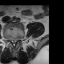CCS_normal: (13, 39, 15, 48)
LFS_stenosis: (17, 37, 18, 43)
LLS_severe_stenosis: (15, 38, 16, 45)
RFS_severe_stenosis: (9, 37, 11, 44)
RLS_stenosis: (11, 38, 13, 44)
